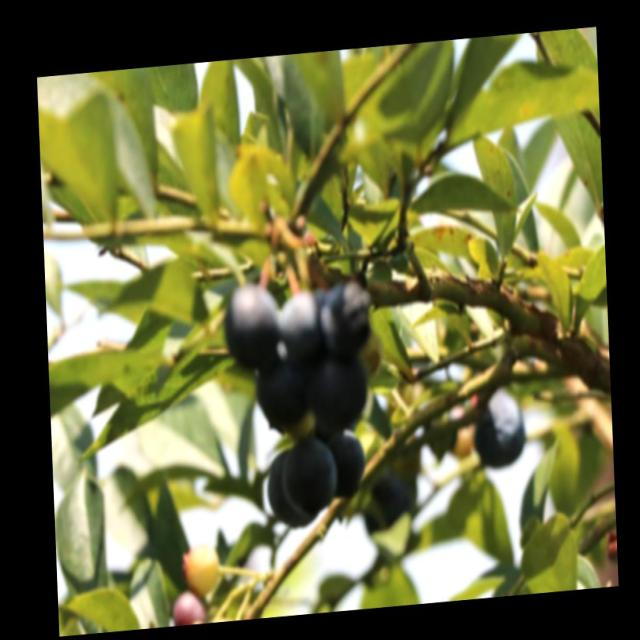blueberry: (221, 276, 282, 368), (251, 350, 313, 437), (279, 431, 337, 517), (472, 386, 529, 473), (261, 442, 314, 534), (313, 346, 368, 432), (318, 276, 375, 356), (277, 288, 326, 365), (330, 426, 367, 499)
blueberry-halfripe: (182, 541, 223, 598)
